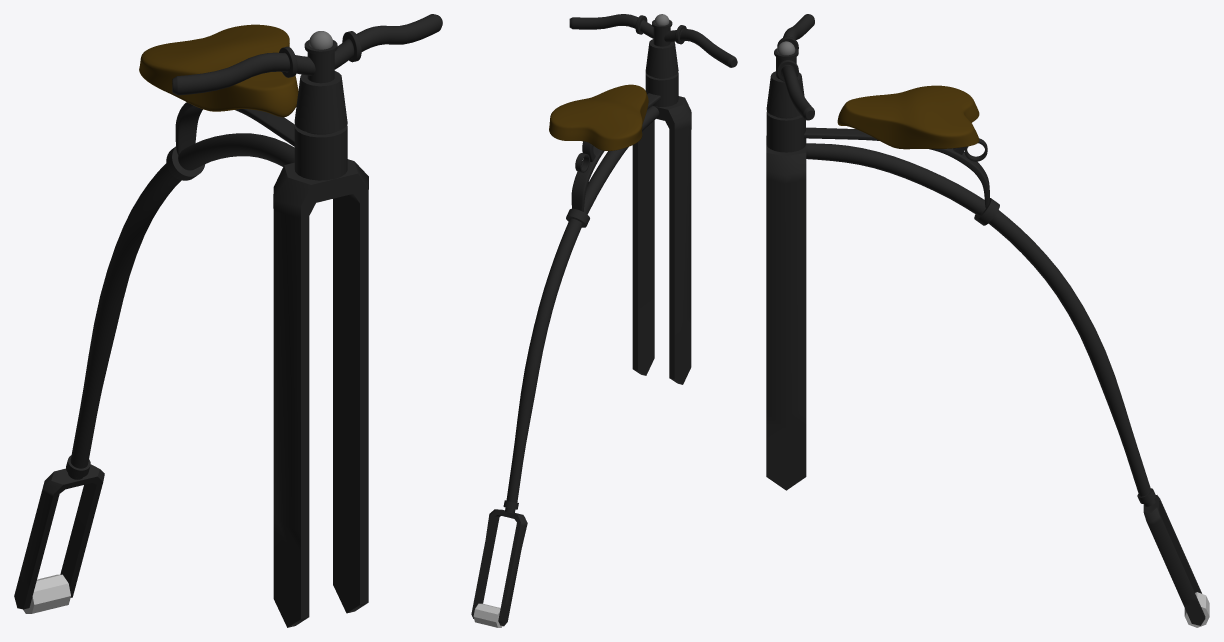
The model's file is BikeBody.fbx.
The picture shows the model from 3 angles, left to right: view 1: azimuth 30°, elevation 25°; view 2: azimuth 150°, elevation 25°; view 3: azimuth 270°, elevation 25°; orthographic projection. The views are drawn at different scales.
Visible parts, largest first — view 1: polySurface101; view 2: polySurface101; view 3: polySurface101.
Part boxes in pixels (box(x1,y1,x2,y2)): polySurface101: box(14, 14, 442, 627); polySurface101: box(471, 14, 737, 627); polySurface101: box(766, 14, 1209, 627).
Bounding box in the file's own units: 13.68 × 37.79 × 26.23.
